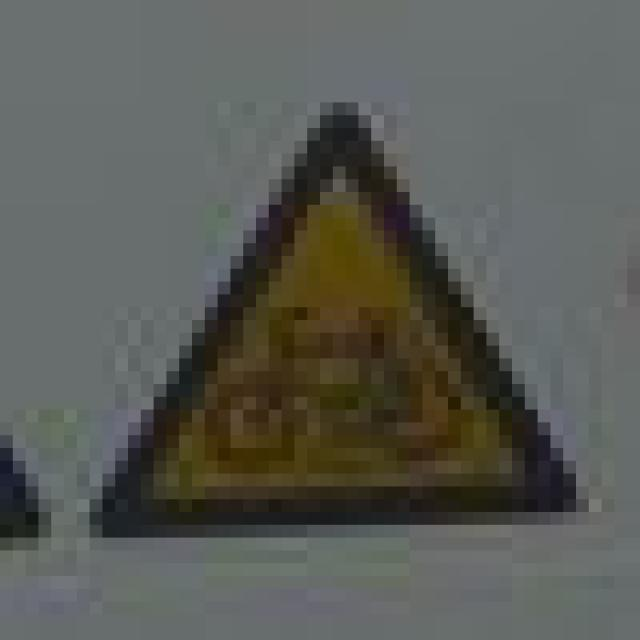cycle_crossing: (64, 90, 576, 524)
